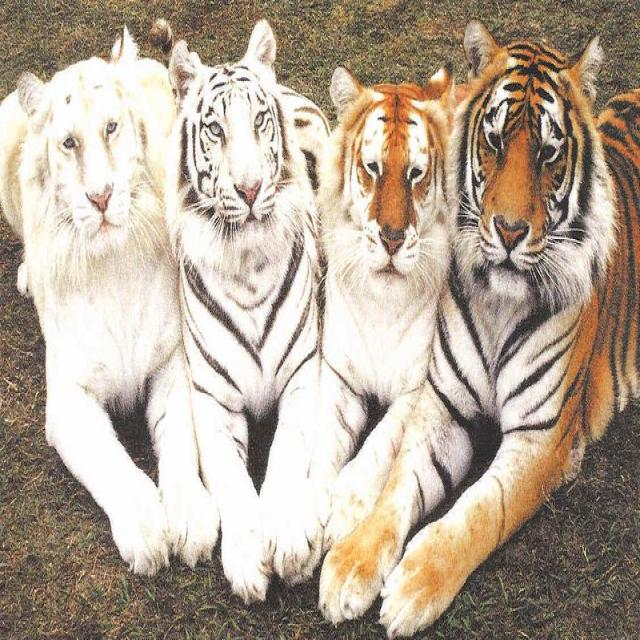Tiger: (316, 16, 635, 632), (0, 23, 215, 575), (279, 47, 463, 606), (167, 12, 331, 601)
